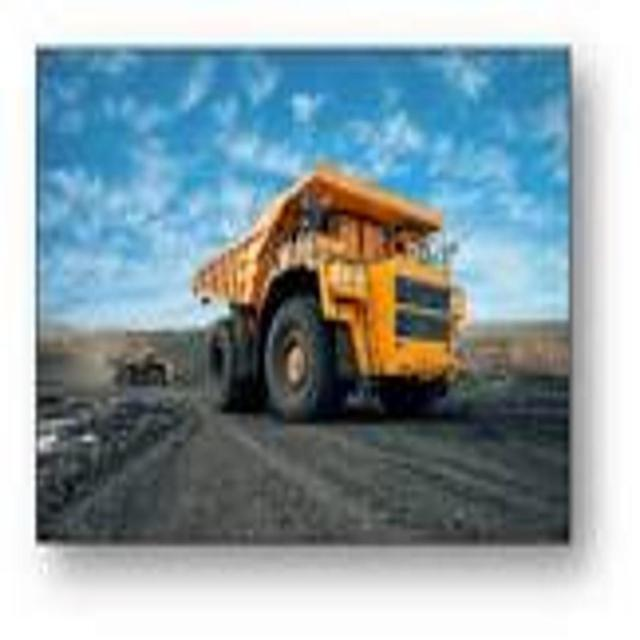dump_truck: (190, 154, 476, 435)
